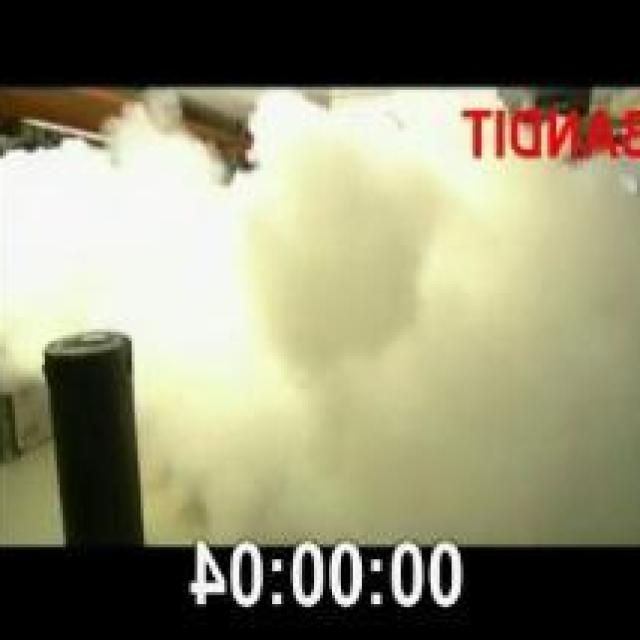fire: (191, 176, 616, 499)
